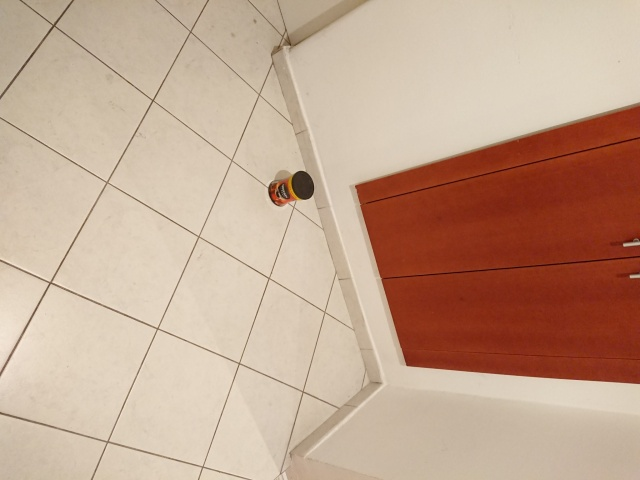Nescafe Classic 225g: (266, 168, 317, 210)
